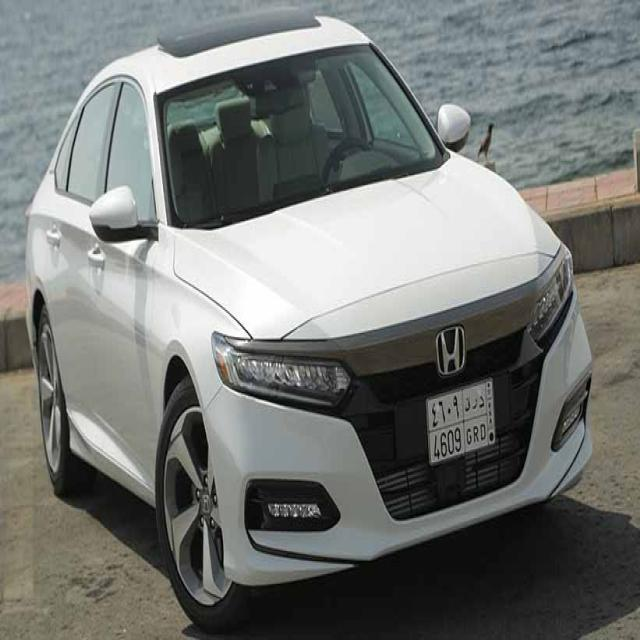license_plate: (424, 373, 497, 469)
